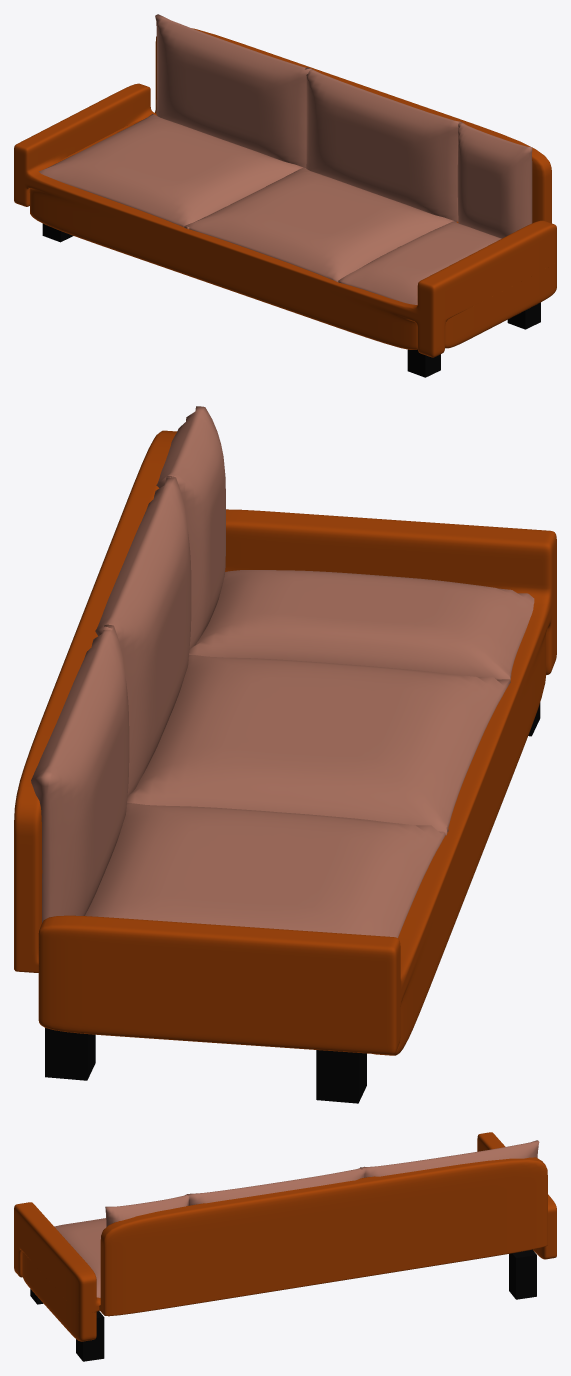
Rendered from OrangeSofa.fbx.
3 renders of one model, top to bottom at view 1: azimuth 30°, elevation 25°; view 2: azimuth 150°, elevation 25°; view 3: azimuth 270°, elevation 25°, orthographic. The views are drawn at different scales.
Visible parts, largest first — view 1: Sofa_LOD0; view 2: Sofa_LOD0; view 3: Sofa_LOD0.
Part boxes in pixels (bbox=[...]): Sofa_LOD0: bbox=[14, 14, 556, 377]; Sofa_LOD0: bbox=[14, 406, 556, 1103]; Sofa_LOD0: bbox=[14, 1132, 556, 1361].
Size of what is drawn, in the model's own units: 136 by 64.53 by 204.
